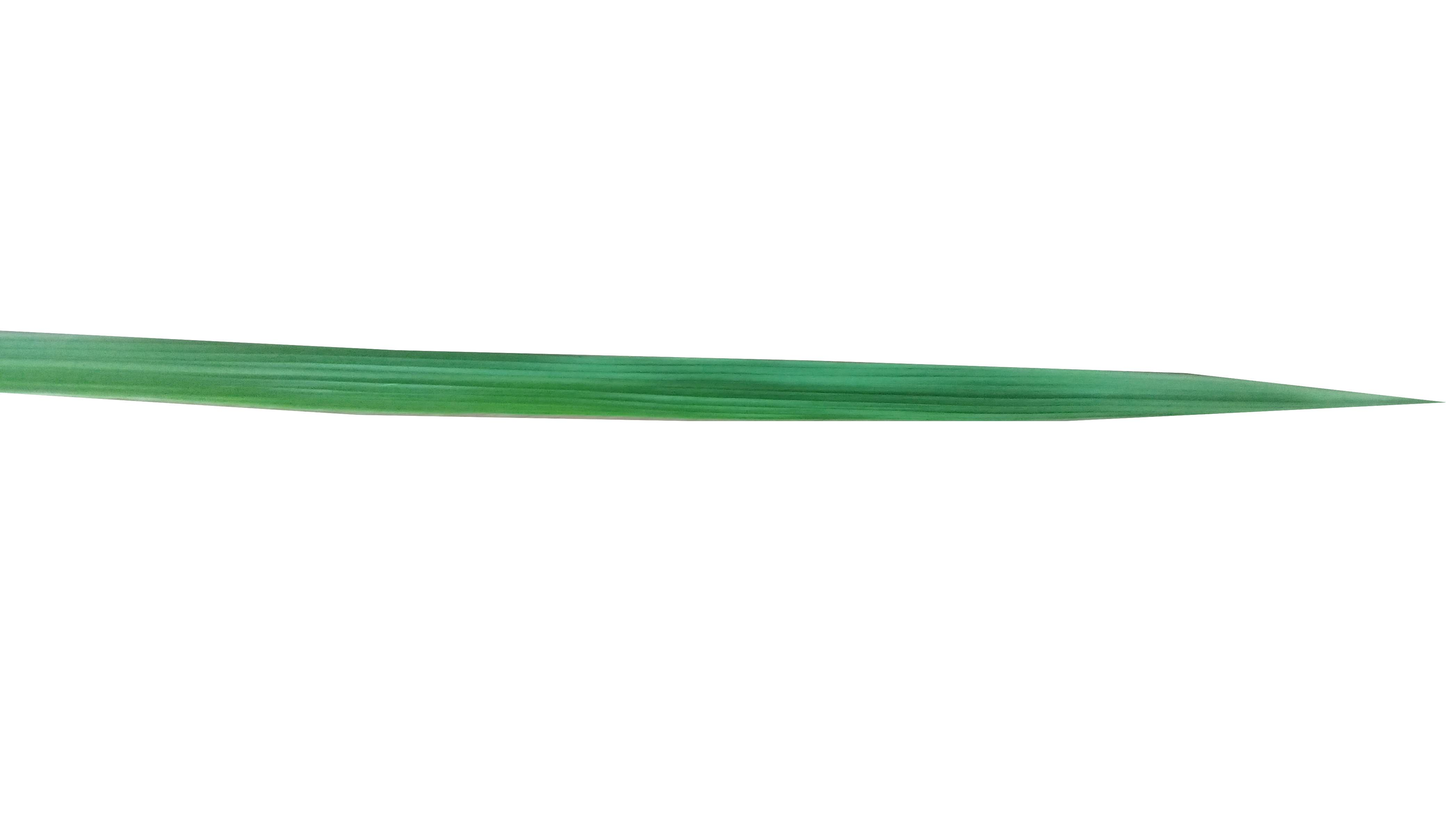Healthy: (0, 333, 1425, 425)
